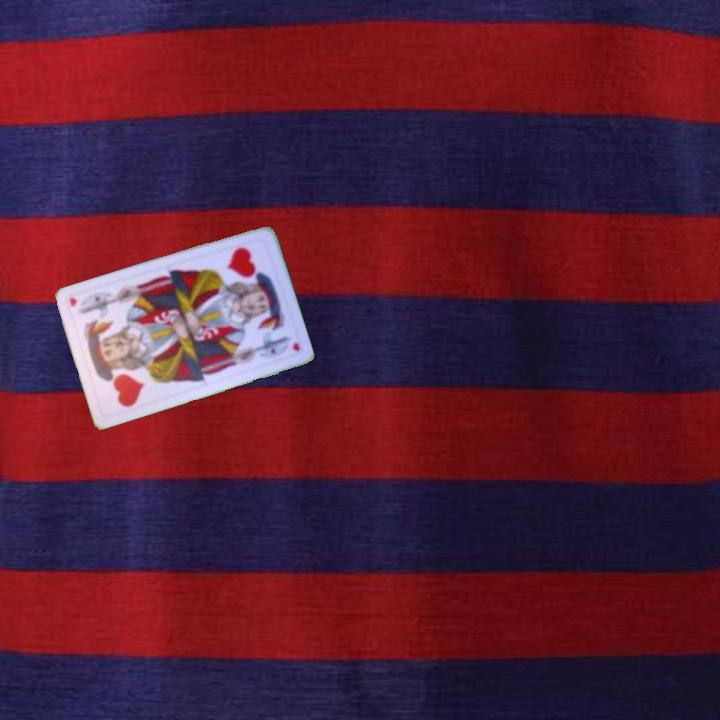h_j.png: (211, 234, 285, 314), (83, 338, 157, 418)
